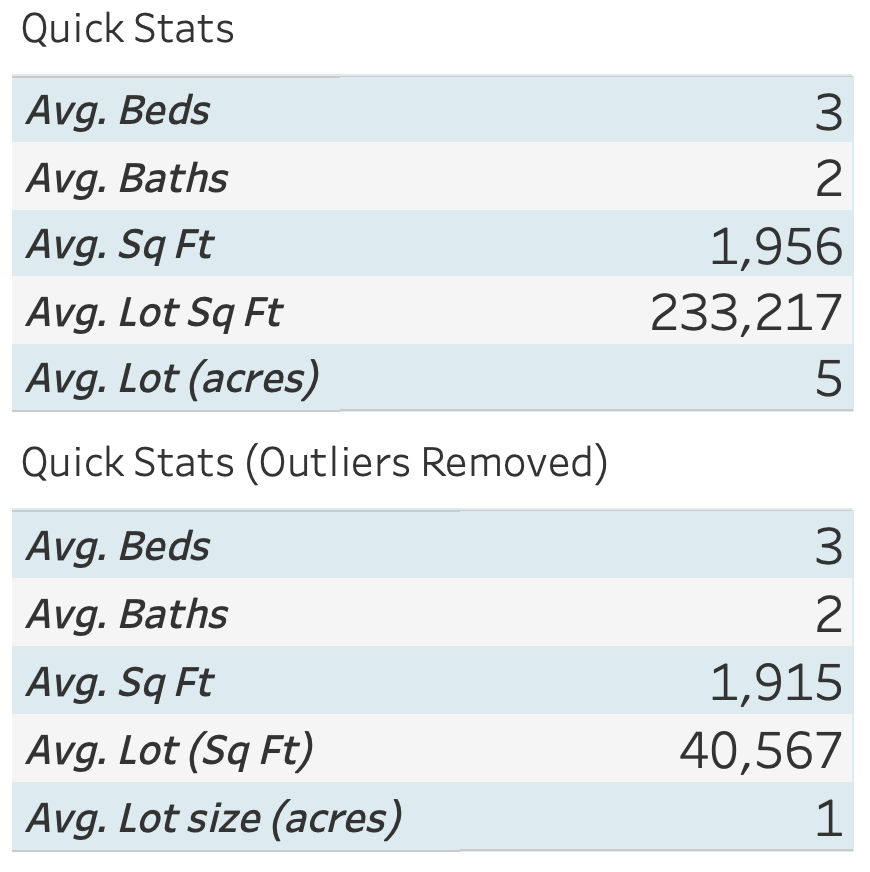

Layout of this report page (visuals, bound fields, positions):
{"tool":"tableau","page":{"name":"Dashboard 1","canvas":[650,860],"ordinal":0},"visuals":[{"type":"worksheet","title":"Stat Tile","mark":"Automatic","box":[162,86,421,224]},{"type":"worksheet","title":"Stat Tile (2)","mark":"Automatic","box":[162,317,421,228]}]}

Visuals, with their boxes on the page's 650x860 design canvas (x1, y1, x2, y2). These are canvas units, not pixel positions in the 870x872 screenshot, which may show the page scaled, cropped or inside an application window:
"Stat Tile" worksheet: {"left": 162, "top": 86, "right": 583, "bottom": 310}
"Stat Tile (2)" worksheet: {"left": 162, "top": 317, "right": 583, "bottom": 545}
